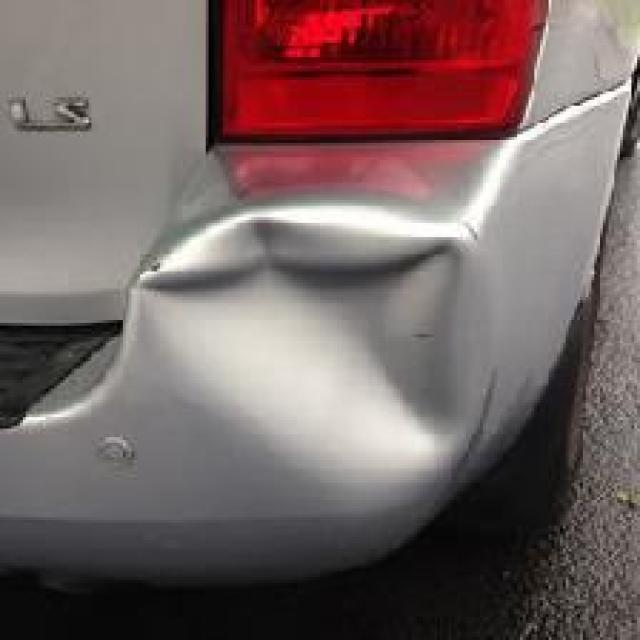damaged: (143, 208, 506, 512)
